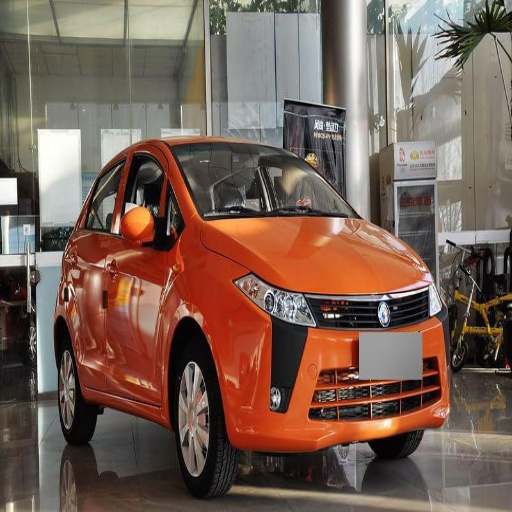front_bumper: (220, 284, 446, 438)
front_right_door: (100, 145, 173, 398)
front_right_light: (234, 274, 317, 325)
